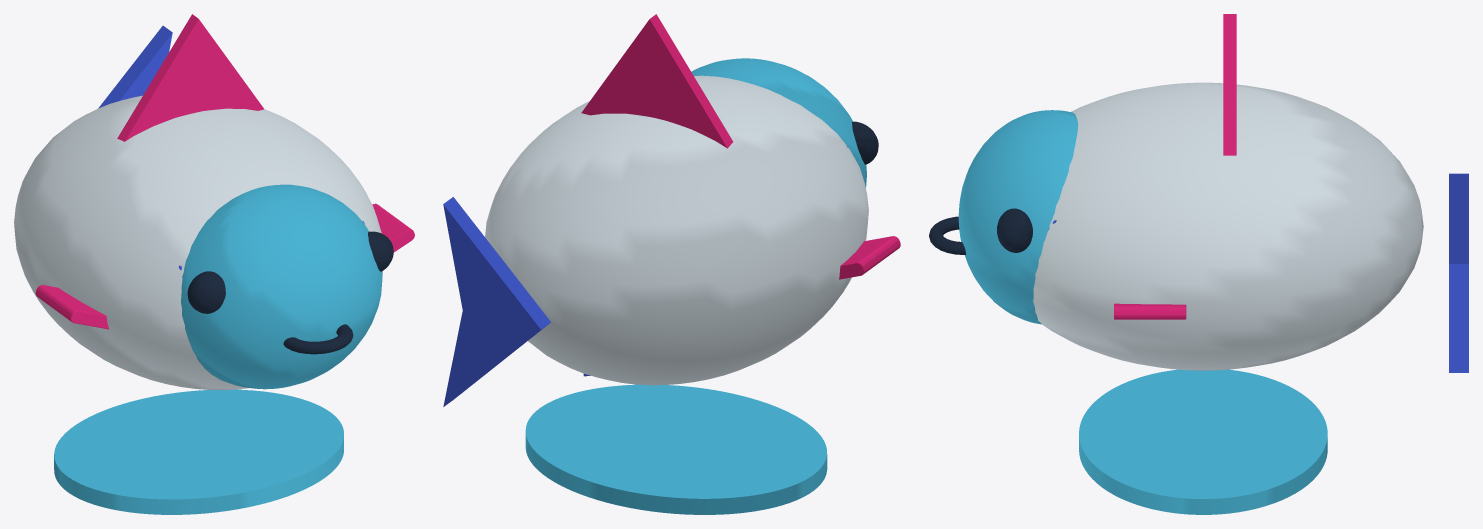
Rendered from 0854_有毒生物图鉴_地纹芋螺.glb.
3 renders of one model, left to right at view 1: azimuth 30°, elevation 25°; view 2: azimuth 150°, elevation 25°; view 3: azimuth 270°, elevation 25°, orthographic. The views are drawn at different scales.
Parts seen in each view (by area): view 1: card_0854; view 2: card_0854; view 3: card_0854.
Boxes of the visible parts, bbox=[...] form: card_0854: bbox=[14, 14, 414, 514]; card_0854: bbox=[443, 14, 900, 514]; card_0854: bbox=[929, 14, 1468, 514].
Size of the model in its own units: 0.8346 by 1 by 1.11.
